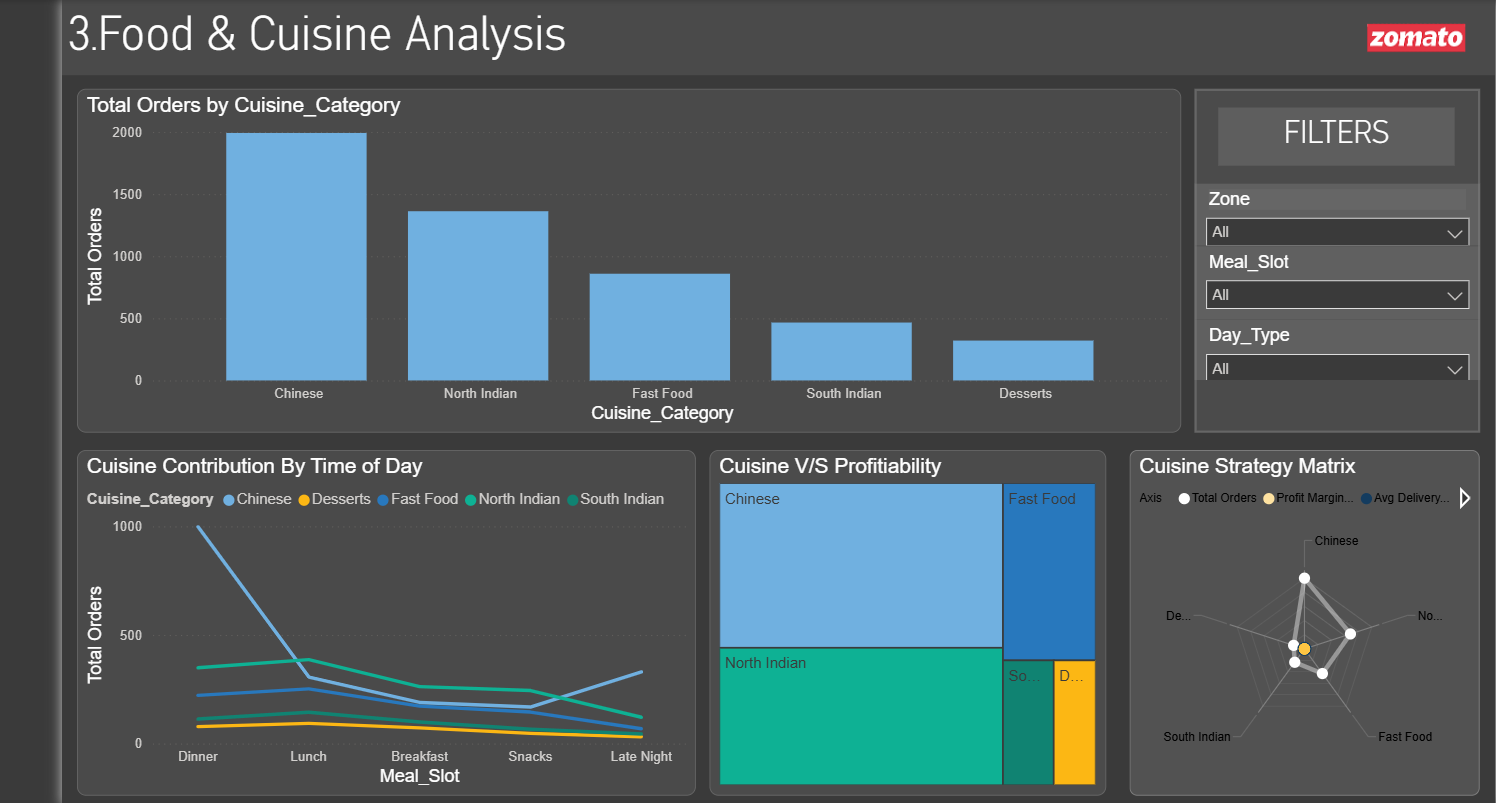

What the dashboard file says about the page in this screenshot:
{"tool":"powerbi","page":{"name":"Food & Cuisine Analysis","canvas":[1280,720],"ordinal":2},"visuals":[{"type":"textbox","box":[0,0,1280.2,67.4],"z":0},{"type":"clusteredColumnChart","fields":{"Category":["Cleaned Data.Cuisine_Category"],"Y":["Cleaned Data.Total Orders"]},"box":[13.7,79.6,986.6,307.4],"z":1000},{"type":"lineChart","title":"Cuisine Contribution By Time of Day","fields":{"Category":["Cleaned Data.Meal_Slot"],"Series":["Cleaned Data.Cuisine_Category"],"Y":["Cleaned Data.Total Orders"]},"box":[13.7,402.1,553,308.7],"z":2000},{"type":"treemap","title":"Cuisine V/S Profitiability","fields":{"Group":["Cleaned Data.Cuisine_Category"],"Values":["Cleaned Data.Total Revenue"]},"box":[578.8,402.4,354.2,308.7],"z":3000},{"type":"shape","box":[1011.3,79.6,255.2,307.4],"z":4000},{"type":"textbox","box":[1033.3,96.1,211.3,52.1],"z":5000},{"type":"slicer","fields":{"Values":["Cleaned Data.Zone"]},"box":[1011.3,164.7,255.2,54.9],"z":6000},{"type":"slicer","fields":{"Values":["Cleaned Data.Meal_Slot"]},"box":[1011.3,219.6,255.2,65.9],"z":7000},{"type":"slicer","fields":{"Values":["Cleaned Data.Day_Type"]},"box":[1011.3,285.4,255.2,53.5],"z":8000},{"type":"RadarChart1446119667547","title":"Cuisine Strategy Matrix","fields":{"Category":["Cleaned Data.Cuisine_Category"],"Y":["Cleaned Data.Total Orders","Cleaned Data.Profit Margin %","Cleaned Data.Avg Delivery Time","Cleaned Data.Cancellation Rate %"]},"box":[953.7,402.4,312.8,308.7],"z":9000},{"type":"image","box":[1139,1.2,141.2,64.2],"z":10000}]}

Visuals, with their boxes on the page's 1280x720 design canvas (x1, y1, x2, y2). These are canvas units, not pixel positions in the 1496x803 screenshot, which may show the page scaled, cropped or inside an application window:
textbox: left=0, top=0, right=1280, bottom=67
clusteredColumnChart - Cleaned Data.Cuisine_Category x Cleaned Data.Total Orders: left=14, top=80, right=1000, bottom=387
"Cuisine Contribution By Time of Day" lineChart: left=14, top=402, right=567, bottom=711
"Cuisine V/S Profitiability" treemap: left=579, top=402, right=933, bottom=711
shape: left=1011, top=80, right=1266, bottom=387
textbox: left=1033, top=96, right=1245, bottom=148
slicer - Cleaned Data.Zone: left=1011, top=165, right=1266, bottom=220
slicer - Cleaned Data.Meal_Slot: left=1011, top=220, right=1266, bottom=286
slicer - Cleaned Data.Day_Type: left=1011, top=285, right=1266, bottom=339
"Cuisine Strategy Matrix" RadarChart1446119667547: left=954, top=402, right=1266, bottom=711
image: left=1139, top=1, right=1280, bottom=65
